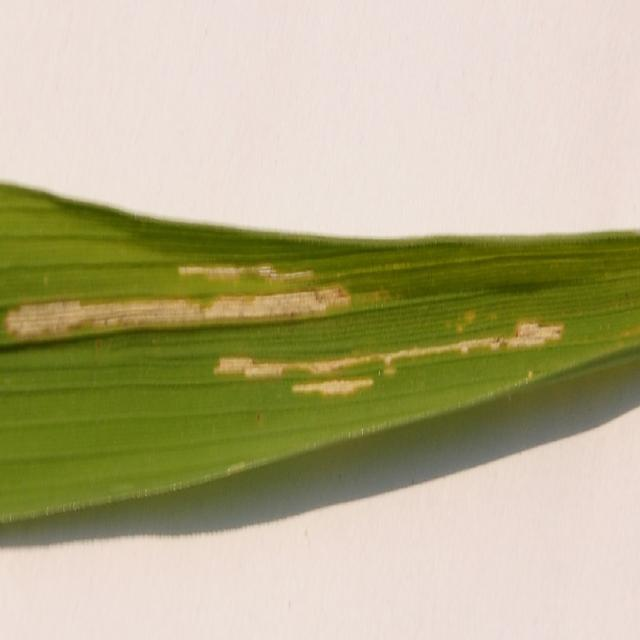bacterial_leaf_blight: (215, 323, 563, 377), (5, 287, 350, 339), (178, 264, 313, 279), (293, 379, 372, 395)
